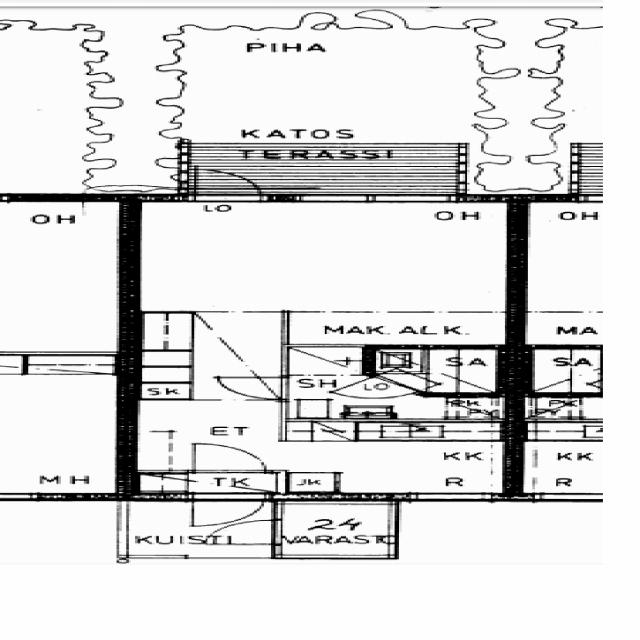door: (331, 376, 420, 409), (193, 493, 264, 528), (194, 443, 265, 473), (195, 170, 261, 202), (209, 521, 282, 545), (221, 378, 287, 400)
